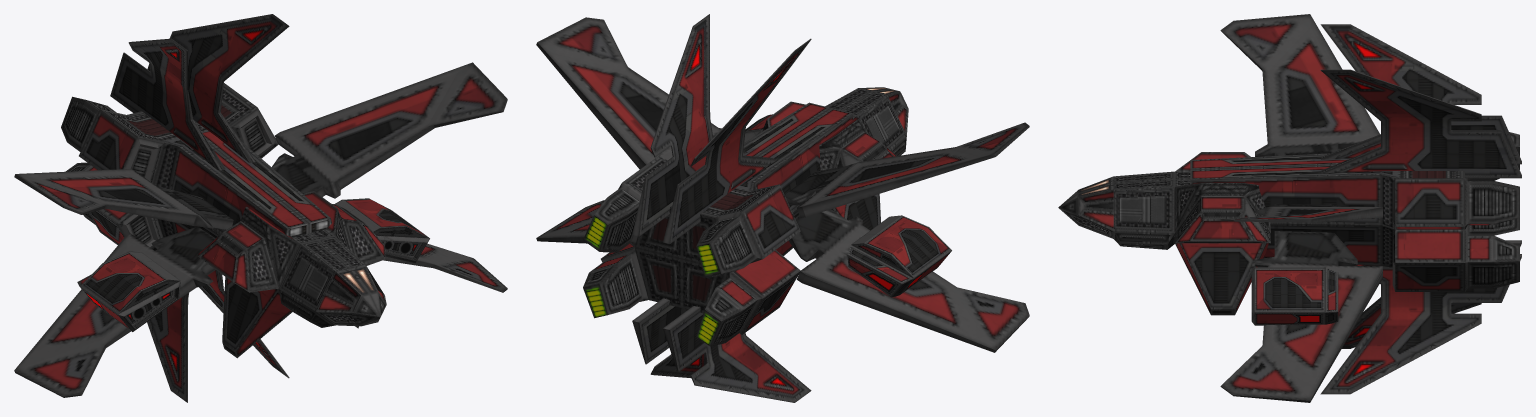
Rendered from BFP_MediumStarship04.FBX.
3 renders of one model, left to right at view 1: azimuth 30°, elevation 25°; view 2: azimuth 150°, elevation 25°; view 3: azimuth 270°, elevation 25°, orthographic. The views are drawn at different scales.
Parts seen in each view (by area): view 1: BFP_MediumStarship04; view 2: BFP_MediumStarship04; view 3: BFP_MediumStarship04.
Boxes of the visible parts, <box> form: BFP_MediumStarship04: <box>14,14,507,402</box>; BFP_MediumStarship04: <box>536,14,1029,402</box>; BFP_MediumStarship04: <box>1058,14,1521,402</box>.
Size of the model in its own units: 1382 by 1012 by 1311.
Materials: 2 (2 with a texture image).
